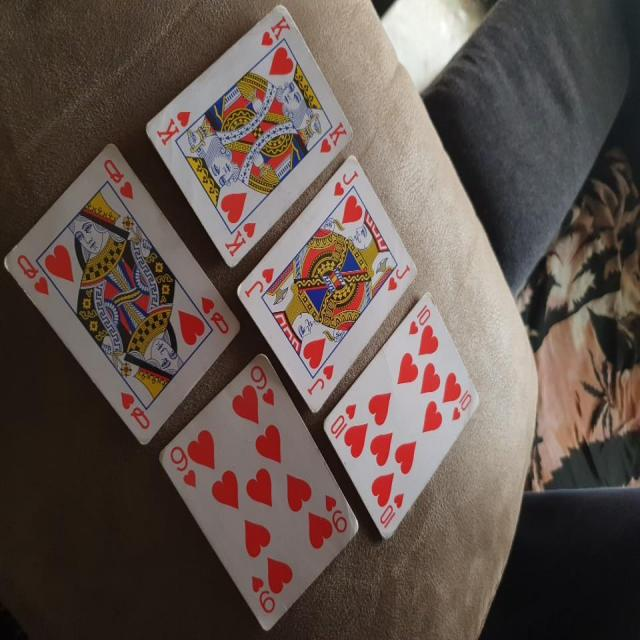10 Hearts: (305, 294, 485, 545)
9 Hearts: (149, 343, 360, 637)
J Hearts: (232, 151, 421, 416)
K Hearts: (137, 1, 356, 270)
Q Hearts: (1, 134, 244, 449)
